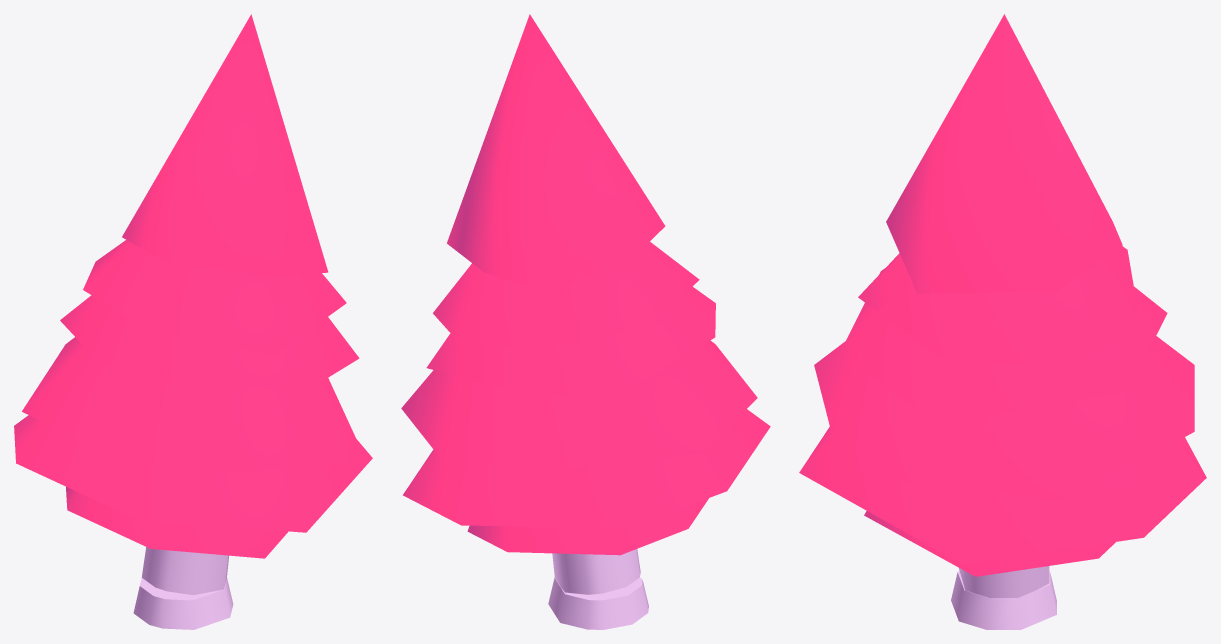
File: FolklostTree2.fbx
The picture shows the model from 3 angles, left to right: view 1: azimuth 30°, elevation 25°; view 2: azimuth 150°, elevation 25°; view 3: azimuth 270°, elevation 25°; orthographic projection. The views are drawn at different scales.
Visible parts, largest first — view 1: pasted__pCone5, pasted__pCone2, pasted__pCone1, pasted__pCone4, pasted__pCone3, pCone1, pasted__pCylinder1, pasted__pCylinder2; view 2: pasted__pCone5, pasted__pCone2, pasted__pCone1, pasted__pCone4, pasted__pCone3, pCone1, pasted__pCylinder1, pasted__pCylinder2; view 3: pasted__pCone5, pasted__pCone2, pasted__pCone1, pasted__pCone4, pasted__pCone3, pasted__pCylinder1, pCone1, pasted__pCylinder2.
Part boxes in pixels (left/top/right/bottom): pasted__pCone5: left=122, top=14, right=328, bottom=276; pasted__pCone2: left=22, top=337, right=366, bottom=471; pasted__pCone1: left=14, top=415, right=372, bottom=532; pasted__pCone4: left=83, top=240, right=346, bottom=355; pasted__pCone3: left=60, top=295, right=359, bottom=387; pCone1: left=66, top=487, right=288, bottom=558; pasted__pCylinder1: left=133, top=578, right=233, bottom=629; pasted__pCylinder2: left=141, top=547, right=228, bottom=595; pasted__pCone5: left=447, top=14, right=665, bottom=291; pasted__pCone2: left=401, top=340, right=757, bottom=471; pasted__pCone1: left=403, top=409, right=770, bottom=528; pasted__pCone4: left=433, top=242, right=699, bottom=346; pasted__pCone3: left=426, top=286, right=715, bottom=395; pCone1: left=467, top=498, right=708, bottom=555; pasted__pCylinder1: left=548, top=577, right=648, bottom=629; pasted__pCylinder2: left=552, top=549, right=640, bottom=594; pasted__pCone5: left=886, top=14, right=1122, bottom=293; pasted__pCone2: left=814, top=336, right=1194, bottom=500; pasted__pCone1: left=799, top=426, right=1206, bottom=564; pasted__pCone4: left=858, top=246, right=1141, bottom=366; pasted__pCone3: left=841, top=268, right=1167, bottom=425; pasted__pCylinder1: left=951, top=571, right=1056, bottom=629; pCone1: left=864, top=511, right=1115, bottom=576; pasted__pCylinder2: left=959, top=566, right=1049, bottom=597.
Size of the model in its own units: 3.52 by 6.1 by 3.58.
